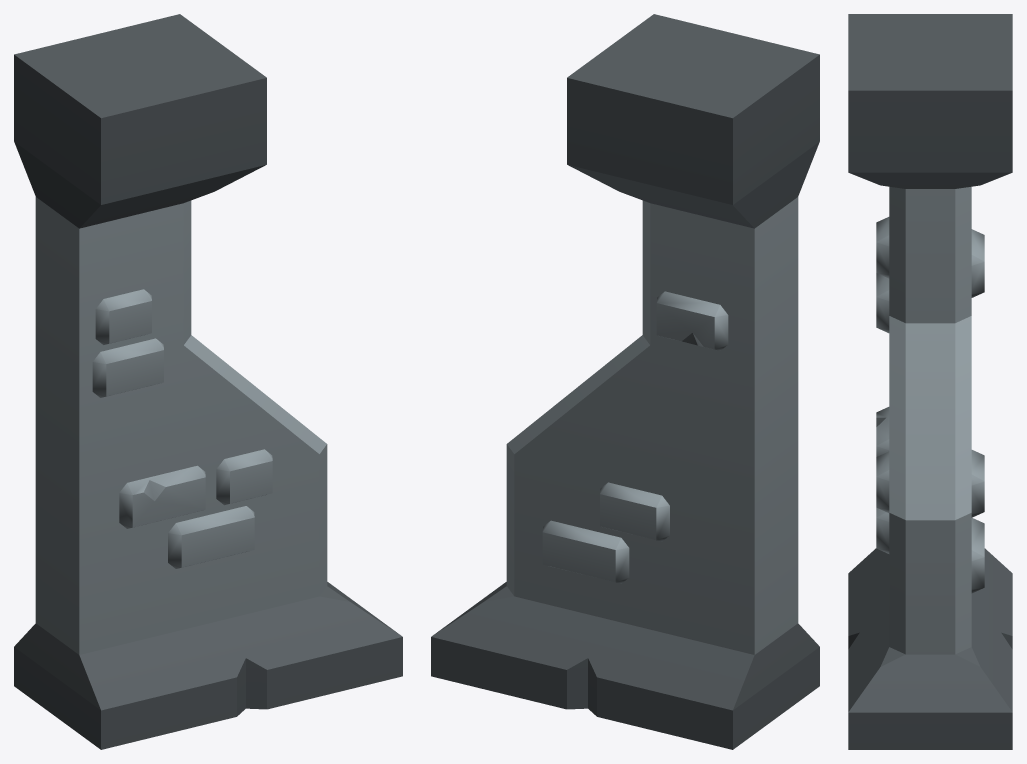
The model's file is wall_half_endcap_sloped.gltf.
3 views of the same model, side by side, from view 1: azimuth 30°, elevation 25°; view 2: azimuth 150°, elevation 25°; view 3: azimuth 270°, elevation 25° (orthographic). The views are drawn at different scales.
Parts seen in each view (by area): view 1: wall_half_endcap_sloped; view 2: wall_half_endcap_sloped; view 3: wall_half_endcap_sloped.
Boxes of the visible parts, left/top/right/bottom form: wall_half_endcap_sloped: left=14, top=14, right=402, bottom=749; wall_half_endcap_sloped: left=431, top=14, right=819, bottom=749; wall_half_endcap_sloped: left=848, top=14, right=1012, bottom=749.
Size of the model in its own units: 2 by 4 by 1.
Materials: 1 (1 with a texture image).
